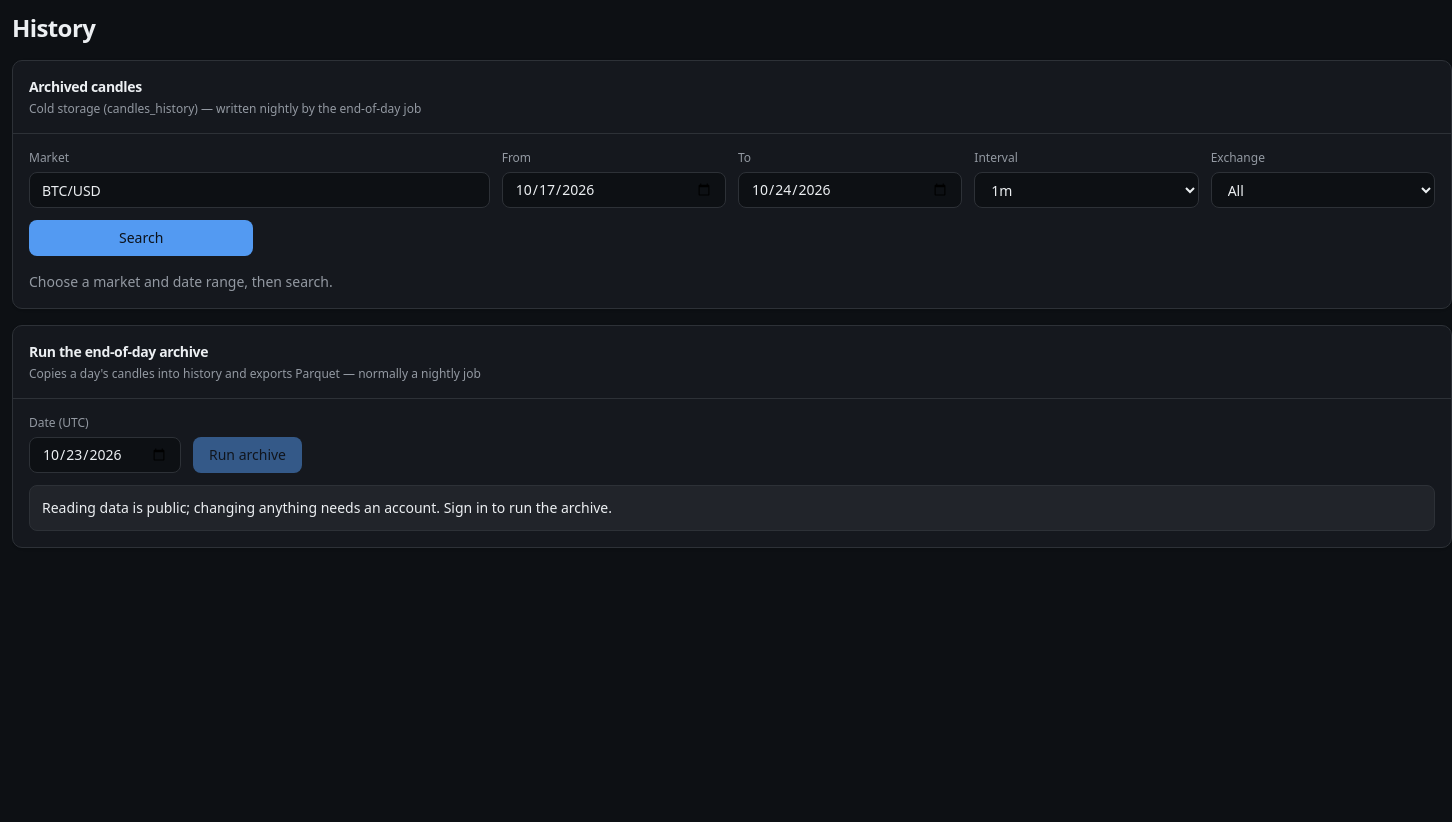
Test: searching archived candles › explains an empty range rather than showing an error
This screenshot has width=1452, height=822.
Click the button "Search" at x=141, y=238, box [29,220,253,256]
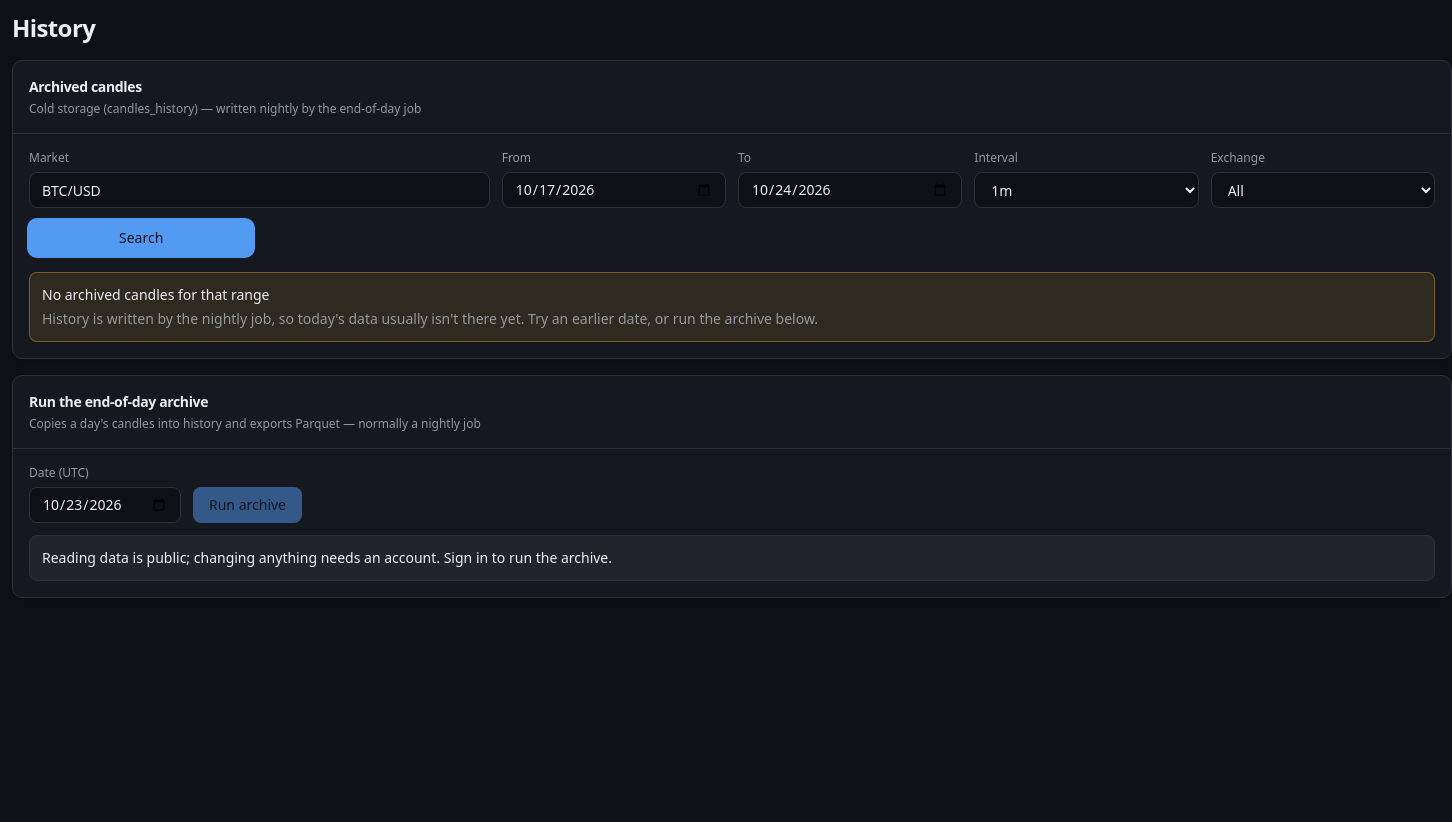
expect the text "No archived candles for that range" is shown: met, box [42,285,270,304]
